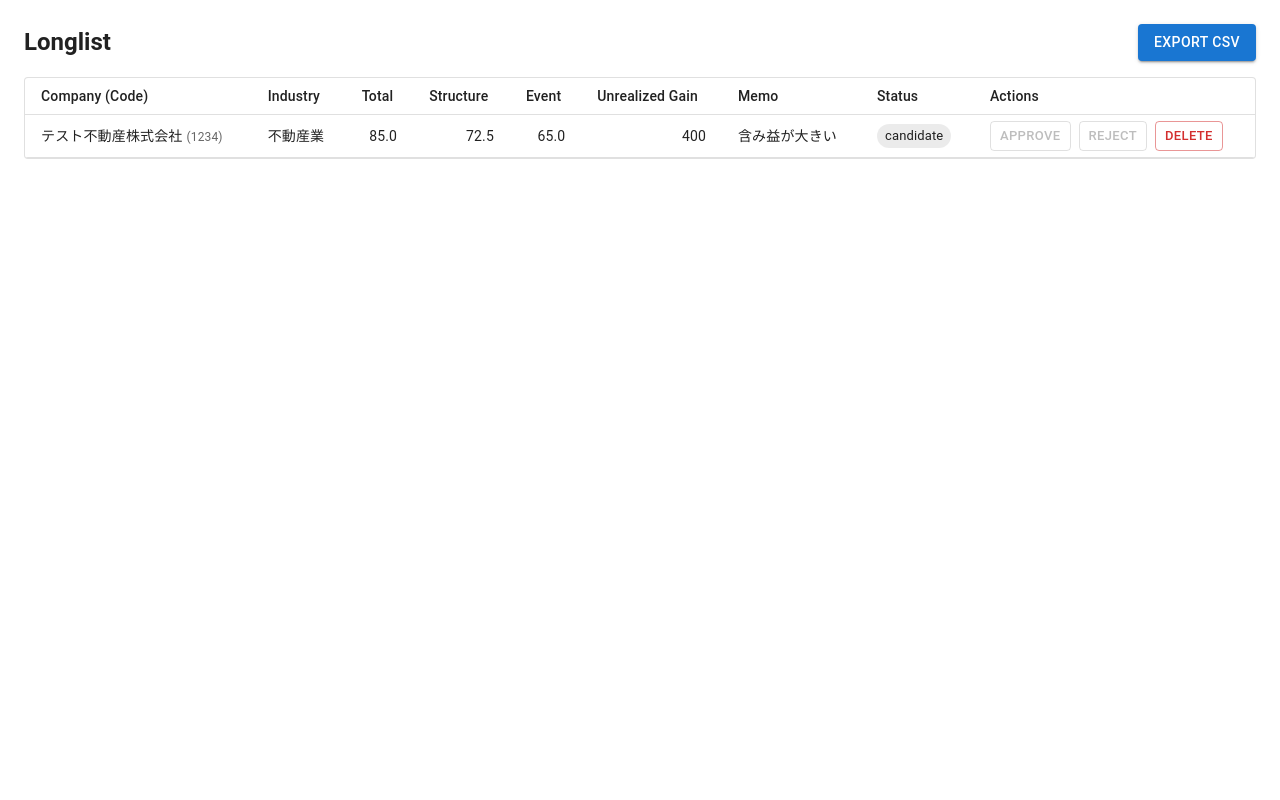
LonglistTable › 正常系 › 削除ボタンをクリックすると確認ダイアログが表示される
Click the button "Delete" at [1189, 136], box [1155,120,1223,151]
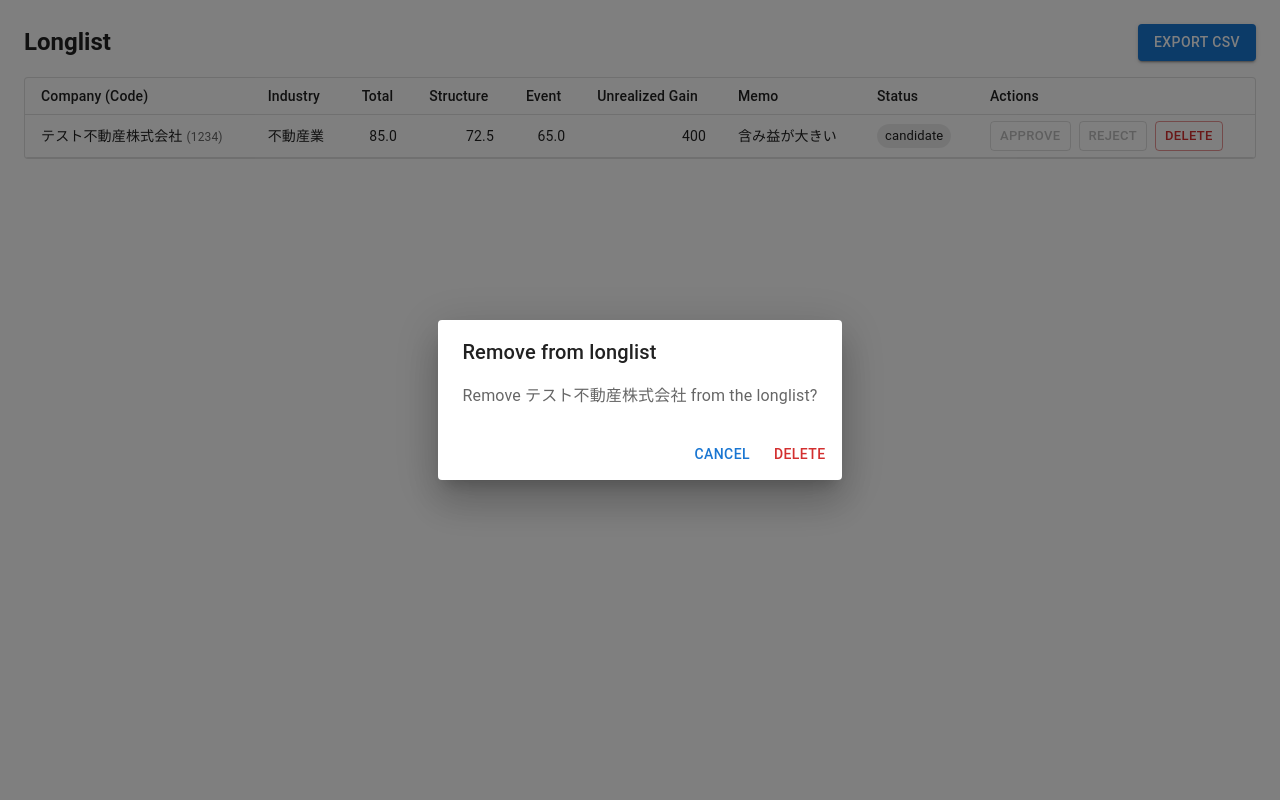
Expected: the dialog is shown, [438,320,842,480]
